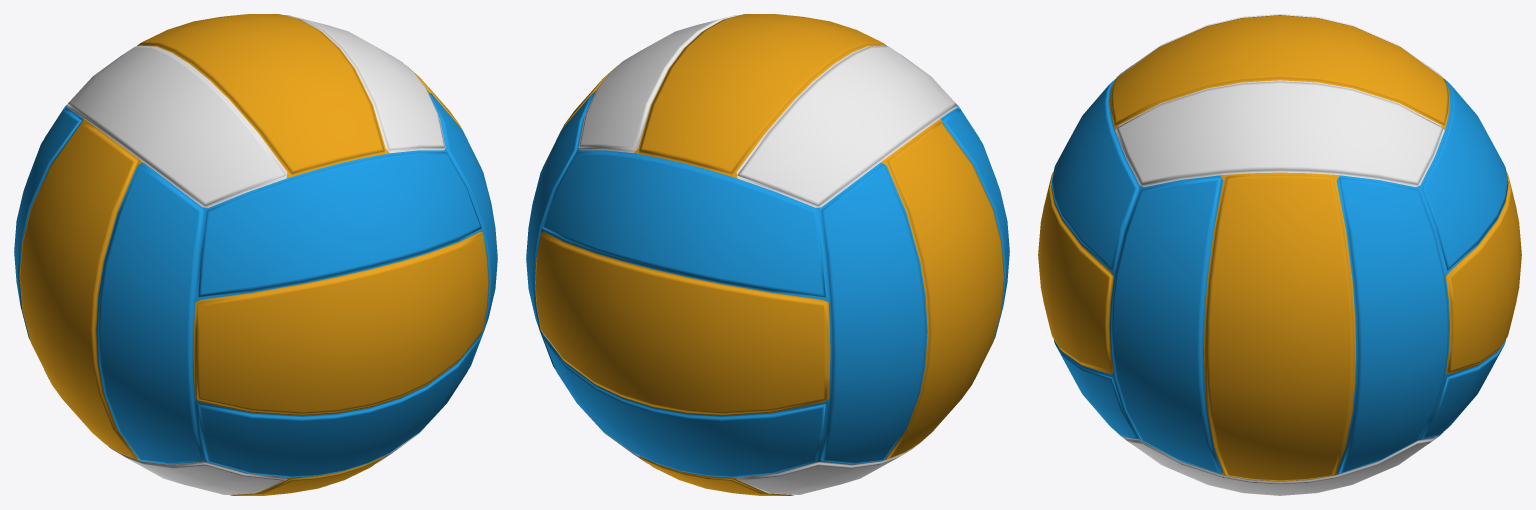
File: ball.glb
3 renders of one model, left to right at view 1: azimuth 30°, elevation 25°; view 2: azimuth 150°, elevation 25°; view 3: azimuth 270°, elevation 25°, orthographic.
Visible parts, largest first — view 1: Cube_2; view 2: Cube_2; view 3: Cube_2.
Part boxes in pixels (box(x1,y1,x2,y2)): Cube_2: box(14, 14, 497, 495); Cube_2: box(526, 14, 1009, 495); Cube_2: box(1038, 14, 1521, 495).
Bounding box in the file's own units: 2.6 × 2.6 × 2.6.
